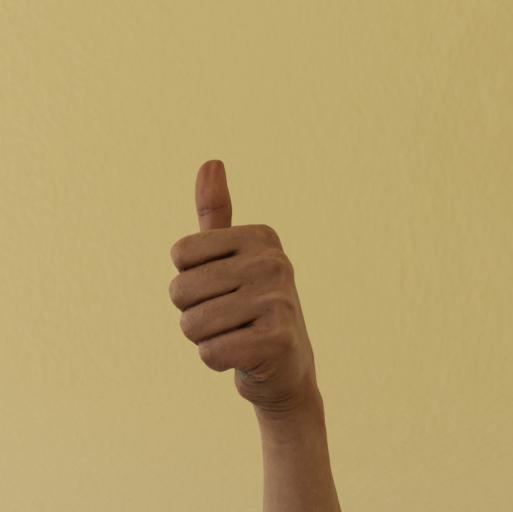thumbs-up: (165, 150, 320, 404)
